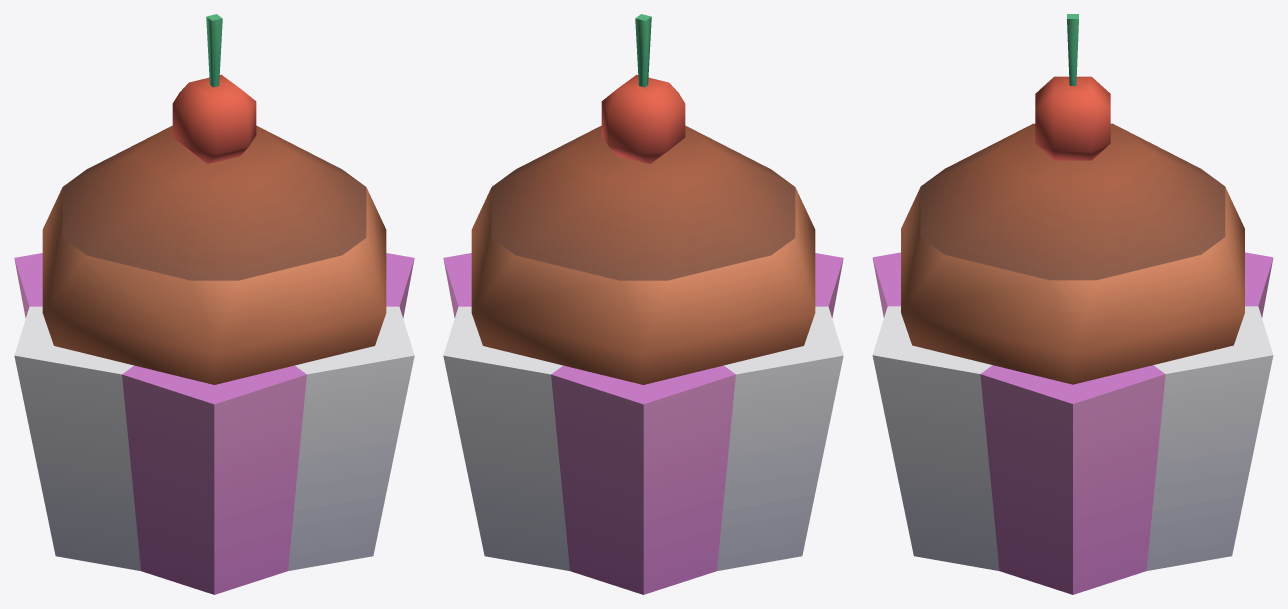
The model's file is food_cupcake.glb.
3 views of the same model, side by side, from view 1: azimuth 30°, elevation 25°; view 2: azimuth 150°, elevation 25°; view 3: azimuth 270°, elevation 25° (orthographic).
Visible parts, largest first — view 1: cherry; view 2: cherry; view 3: cherry.
Boxes of the visible parts, x1=… form: cherry: x1=14, y1=14, x2=414, y2=594; cherry: x1=443, y1=14, x2=843, y2=594; cherry: x1=872, y1=14, x2=1273, y2=594.
Bounding box in the file's own units: 0.0838 × 0.1 × 0.0726.
Materials: 1 (1 with a texture image).
